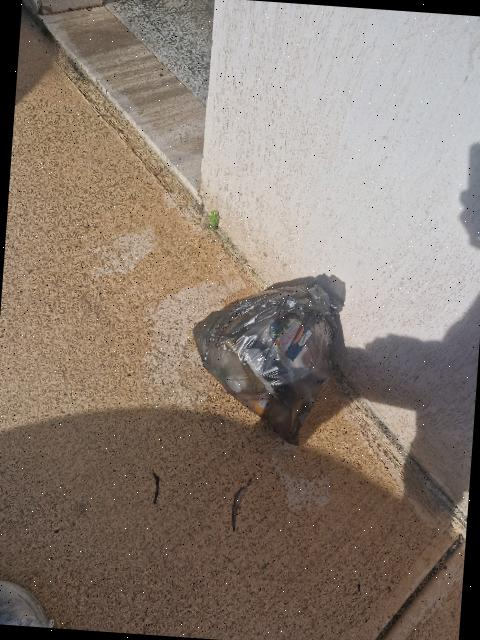Recyclable -Grey-: (193, 276, 345, 443)
